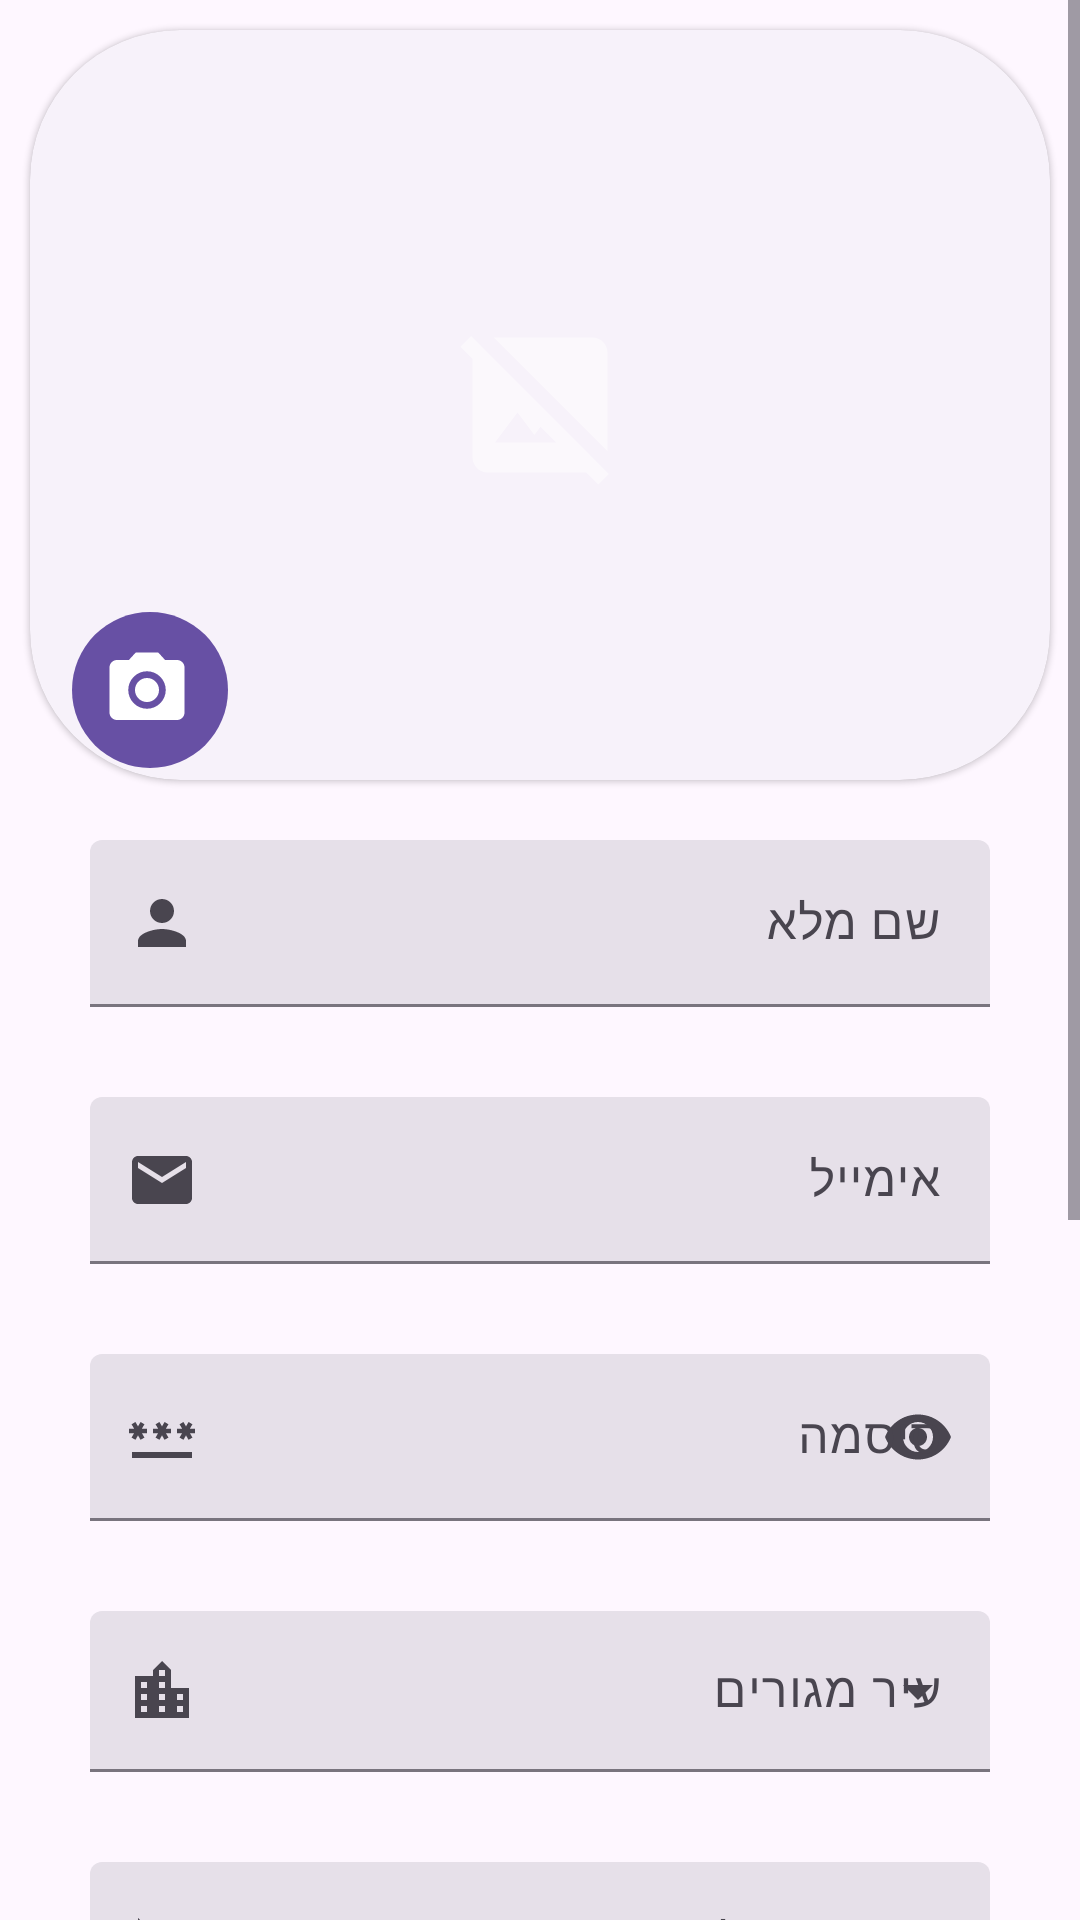

Icon click points for this 1080px×1920px phone screenshot, format [x,y]:
camera: [150,690]
